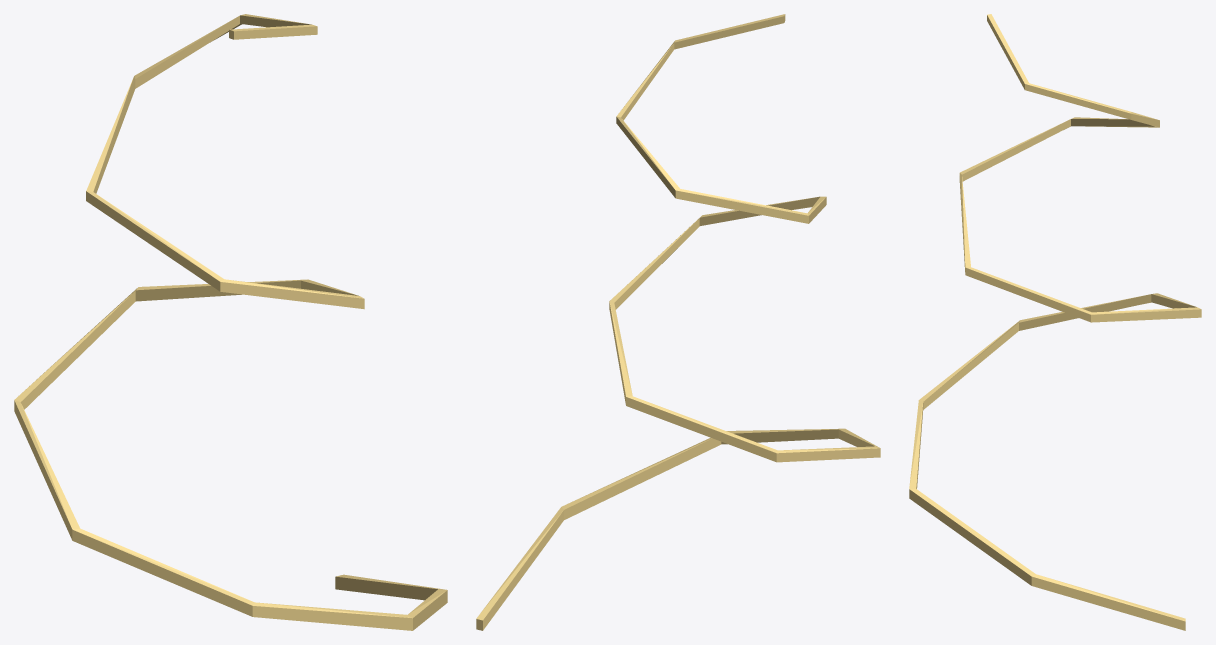
The model's file is Prop_Christmas_Tree_Tinsel_Cream_01.FBX.
3 views of the same model, side by side, from view 1: azimuth 30°, elevation 25°; view 2: azimuth 150°, elevation 25°; view 3: azimuth 270°, elevation 25° (orthographic). The views are drawn at different scales.
Parts seen in each view (by area): view 1: Prop_Christmas_Tree_Tinsel_Cream_01; view 2: Prop_Christmas_Tree_Tinsel_Cream_01; view 3: Prop_Christmas_Tree_Tinsel_Cream_01.
Part boxes in pixels (x1,y1,x2,y2): Prop_Christmas_Tree_Tinsel_Cream_01: (14,14,447,630); Prop_Christmas_Tree_Tinsel_Cream_01: (476,14,880,630); Prop_Christmas_Tree_Tinsel_Cream_01: (909,14,1201,630).
Size of the model in its own units: 1310 by 2332 by 1171.
